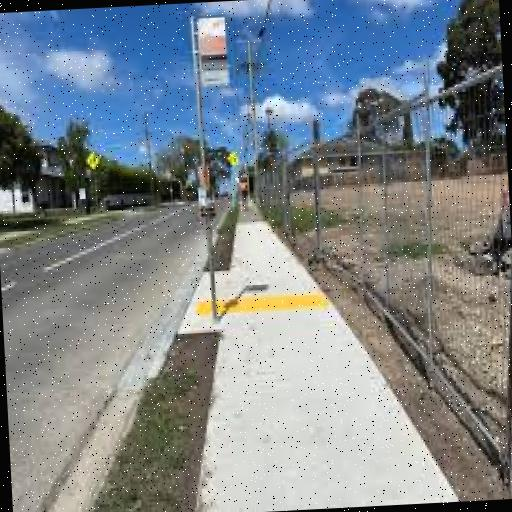clear_path: (205, 224, 426, 508)
kerb_cut: (180, 269, 227, 330)
signage: (188, 8, 233, 324)
tgsi: (196, 292, 329, 317)
